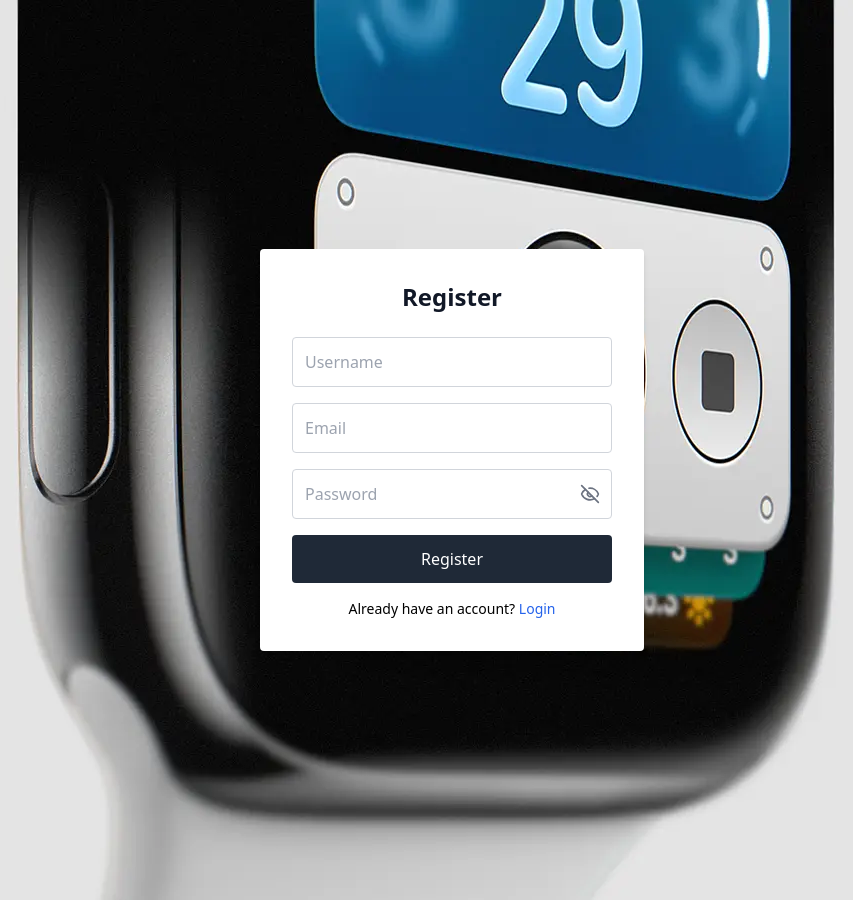
Test: RegisterPage › displays error for short password
The width and height of the screenshot is (853, 900).
Step 1. Type "testuser" into the field with placeholder "Username" → point(452, 362), box [292,337,612,387]
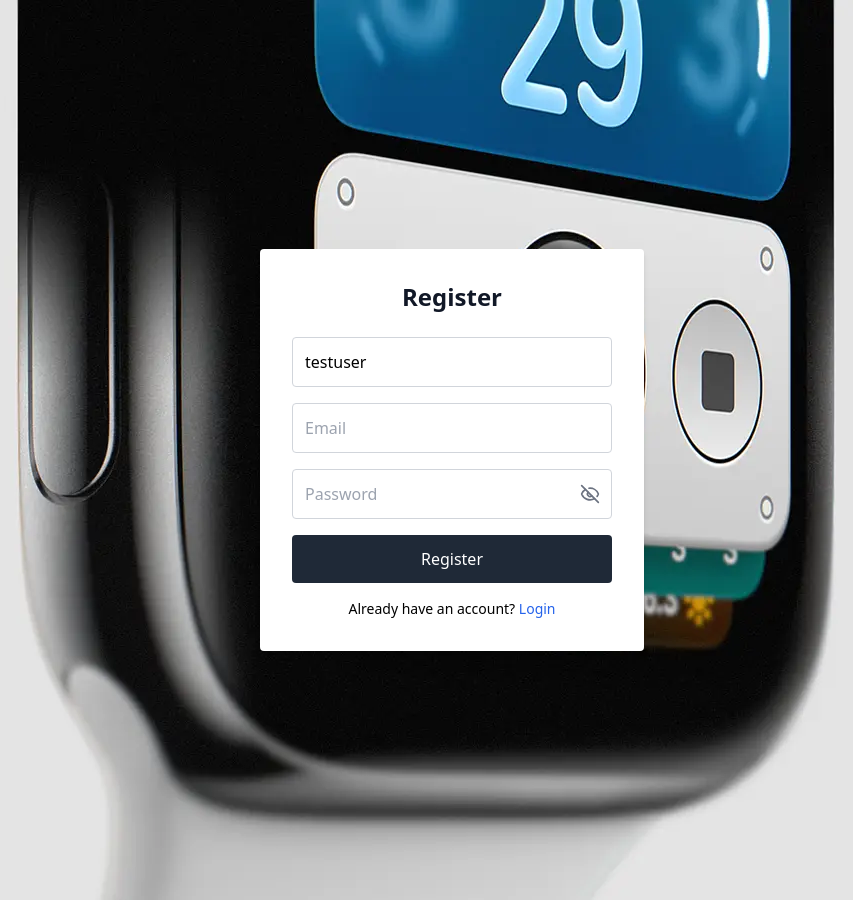
Step 2. Type "test@example.com" into the field with placeholder "Email" → point(452, 428), box [292,403,612,453]
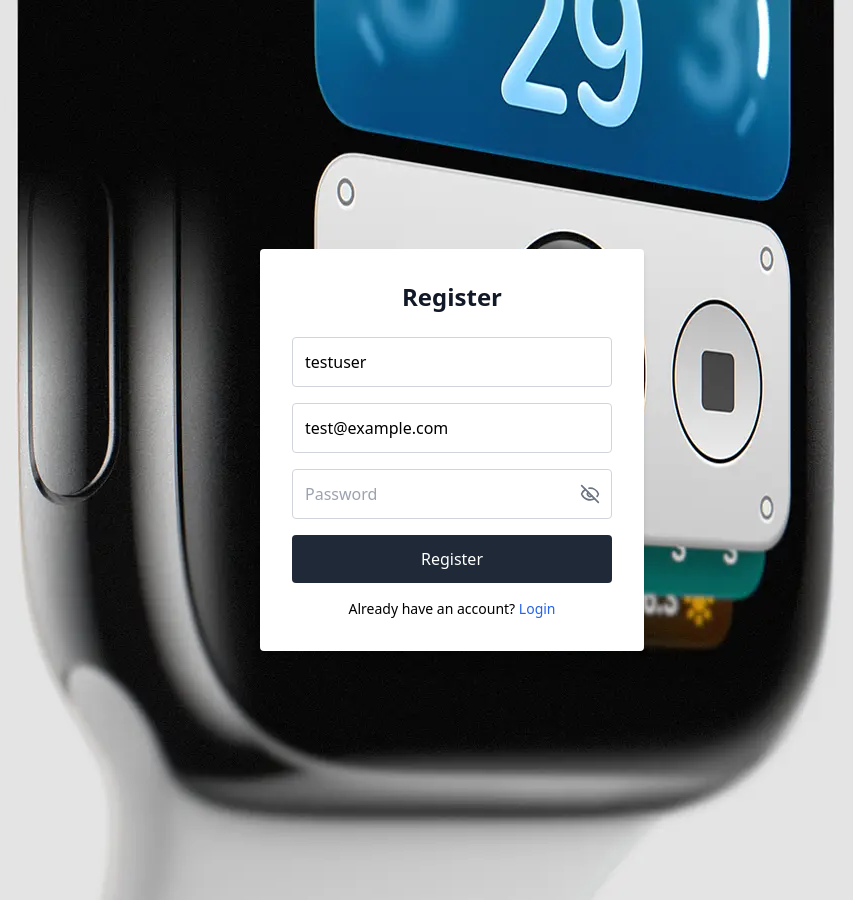
Step 3. Type "short" into the password field with placeholder "Password" → point(452, 494), box [292,469,612,519]
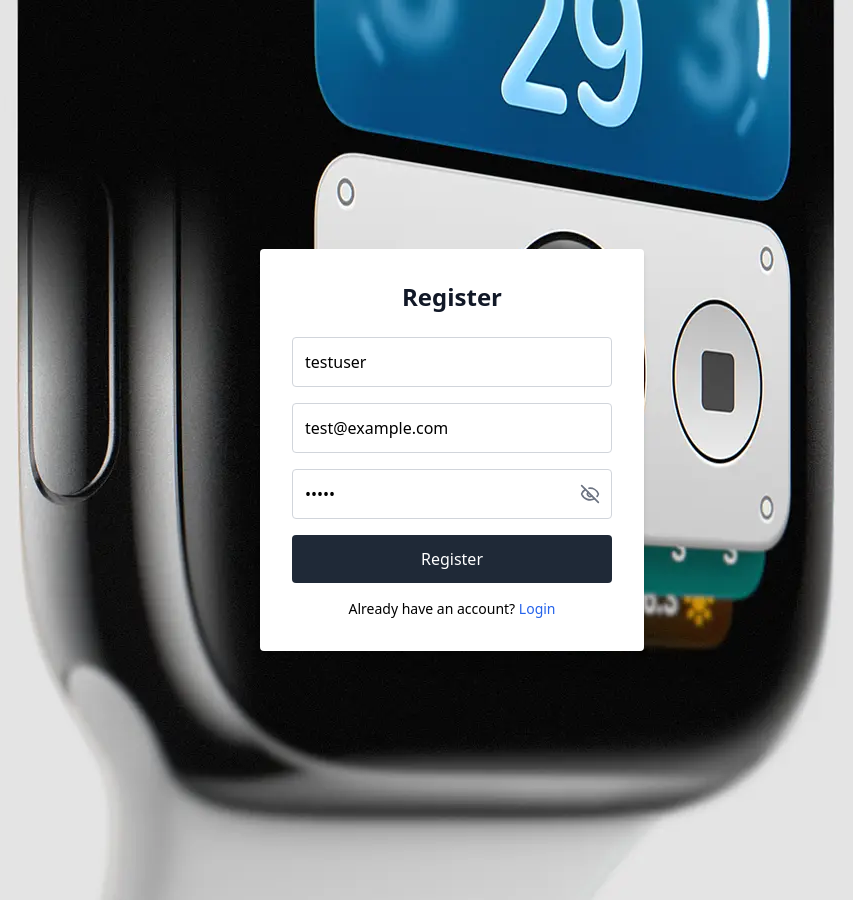
Step 4. Click the button "Register" → point(452, 559), box [292,535,612,583]
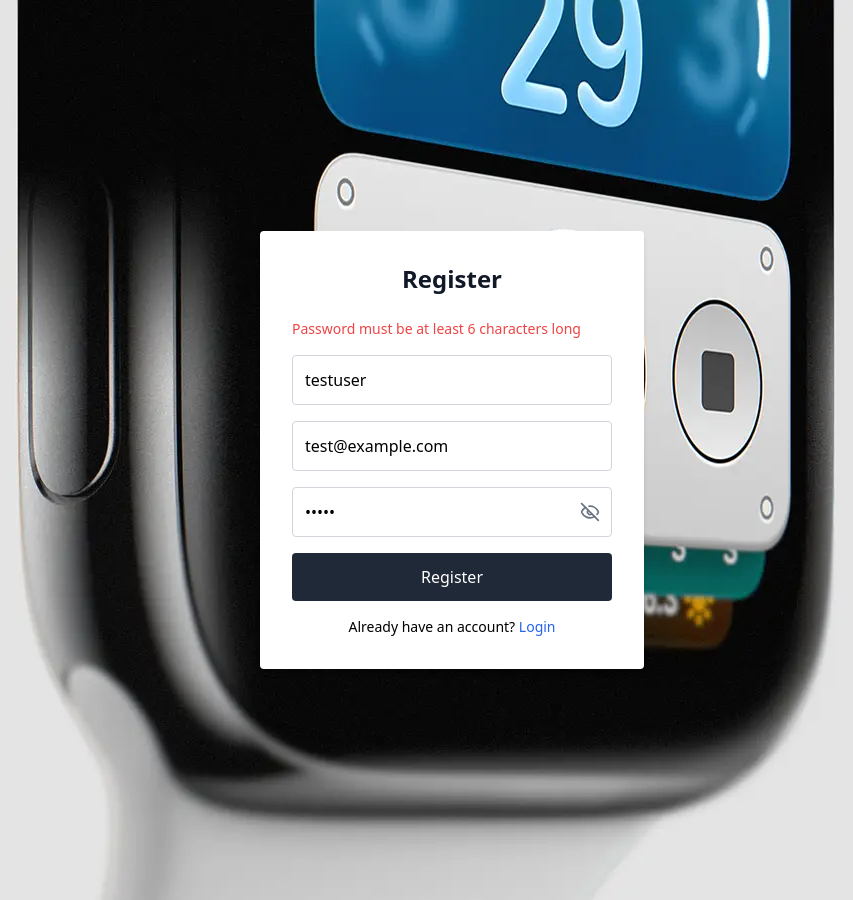
Expected: the text "Password must be at least 6 characters long" is shown, [292,319,612,339]
